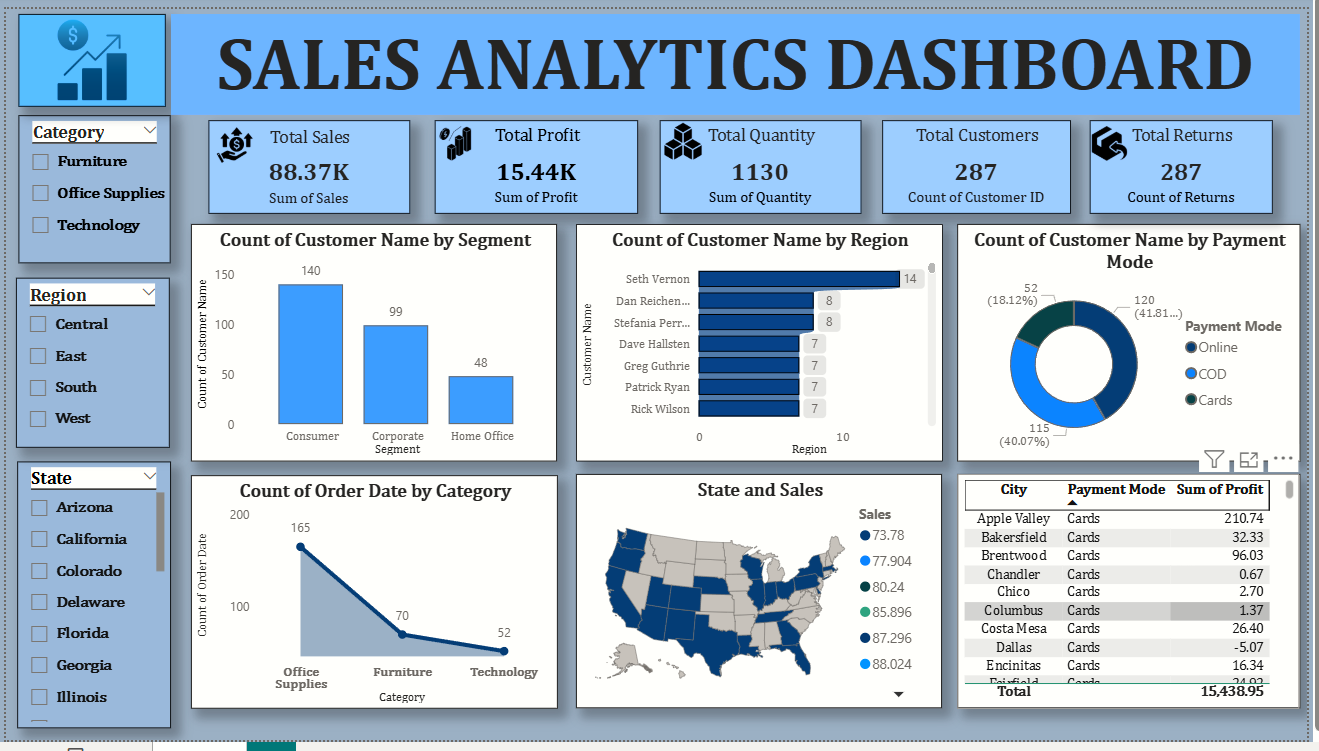

What the dashboard file says about the page in this screenshot:
{"tool":"powerbi","page":{"name":"Page 1","canvas":[1280,720],"ordinal":0},"visuals":[{"type":"card","title":"Total Profit","fields":{"Values":["SuperStore_Sales_Dataset.Profit"]},"box":[422.2,110,200.1,92.2],"z":0},{"type":"card","title":"Total Sales","fields":{"Values":["SuperStore_Sales_Dataset.Sales"]},"box":[199.1,110,198,92.2],"z":1000},{"type":"card","title":"Total Quantity","fields":{"Values":["SuperStore_Sales_Dataset.Quantity"]},"box":[643.2,110,198,92.2],"z":2000},{"type":"card","title":"Total Customers","fields":{"Values":["SuperStore_Sales_Dataset.Customer ID"]},"box":[862.2,110,185.4,92.2],"z":3000},{"type":"barChart","title":"Count of Customer Name by Region","fields":{"Category":["SuperStore_Sales_Dataset.Customer Name"],"Y":["SuperStore_Sales_Dataset.Region"]},"box":[560.3,211.7,360.5,233.6],"z":4000},{"type":"donutChart","fields":{"Y":["SuperStore_Sales_Dataset.Customer Name"],"Category":["SuperStore_Sales_Dataset.Payment Mode"]},"box":[935.5,211.6,337.3,233.6],"z":5000},{"type":"clusteredColumnChart","fields":{"Y":["SuperStore_Sales_Dataset.Customer Name"],"Category":["SuperStore_Sales_Dataset.Segment"]},"box":[182.3,211.6,360.4,233.6],"z":6000},{"type":"areaChart","fields":{"Category":["SuperStore_Sales_Dataset.Category"],"Y":["SuperStore_Sales_Dataset.Order Date"]},"box":[182.5,458.1,360.5,230],"z":7000},{"type":"shapeMap","fields":{"Category":["SuperStore_Sales_Dataset.State"],"Series":["SuperStore_Sales_Dataset.Sales"]},"box":[560.5,457.8,360.4,230.5],"z":8000},{"type":"tableEx","fields":{"Values":["SuperStore_Sales_Dataset.City","SuperStore_Sales_Dataset.Payment Mode","SuperStore_Sales_Dataset.Profit"]},"box":[935.5,457.8,337.3,230.5],"z":9000},{"type":"slicer","fields":{"Values":["SuperStore_Sales_Dataset.Category"]},"box":[12.6,104.8,149.8,145.6],"z":10000},{"type":"slicer","fields":{"Values":["SuperStore_Sales_Dataset.State"]},"box":[11.1,445.4,150.9,262],"z":11000},{"type":"slicer","fields":{"Values":["SuperStore_Sales_Dataset.Region"]},"box":[10.2,263.9,150.9,167.6],"z":12000},{"type":"image","box":[12.8,5.5,145.1,91.3],"z":13000},{"type":"image","box":[174.3,110.4,100.4,46.5],"z":14000},{"type":"image","box":[414.9,110,55.5,46.1],"z":15000},{"type":"textbox","box":[162.4,5.2,1110.5,99.5],"z":16000},{"type":"card","title":"Total Returns","fields":{"Values":["SuperStore_Sales_Dataset.Returns"]},"box":[1065.4,110,180.2,92.2],"z":17000},{"type":"image","box":[630.7,104.8,70.2,51.3],"z":18000},{"type":"image","box":[1056,110,57.6,46.1],"z":19000}]}

Visuals, with their boxes in screenshot pixels (x1, y1, x2, y2), scaled from the page's 1280x720 canvas onto the 1319x751 screenshot:
"Total Profit" card: pyautogui.locateOnScreen(435, 115, 641, 211)
"Total Sales" card: pyautogui.locateOnScreen(205, 115, 409, 211)
"Total Quantity" card: pyautogui.locateOnScreen(663, 115, 867, 211)
"Total Customers" card: pyautogui.locateOnScreen(888, 115, 1080, 211)
"Count of Customer Name by Region" barChart: pyautogui.locateOnScreen(577, 221, 949, 464)
donutChart - SuperStore_Sales_Dataset.Customer Name x SuperStore_Sales_Dataset.Payment Mode: pyautogui.locateOnScreen(964, 221, 1312, 464)
clusteredColumnChart - SuperStore_Sales_Dataset.Customer Name x SuperStore_Sales_Dataset.Segment: pyautogui.locateOnScreen(188, 221, 559, 464)
areaChart - SuperStore_Sales_Dataset.Category x SuperStore_Sales_Dataset.Order Date: pyautogui.locateOnScreen(188, 478, 560, 718)
shapeMap - SuperStore_Sales_Dataset.State x SuperStore_Sales_Dataset.Sales: pyautogui.locateOnScreen(578, 478, 949, 718)
tableEx - SuperStore_Sales_Dataset.City x SuperStore_Sales_Dataset.Payment Mode: pyautogui.locateOnScreen(964, 478, 1312, 718)
slicer - SuperStore_Sales_Dataset.Category: pyautogui.locateOnScreen(13, 109, 167, 261)
slicer - SuperStore_Sales_Dataset.State: pyautogui.locateOnScreen(11, 465, 167, 738)
slicer - SuperStore_Sales_Dataset.Region: pyautogui.locateOnScreen(11, 275, 166, 450)
image: pyautogui.locateOnScreen(13, 6, 163, 101)
image: pyautogui.locateOnScreen(180, 115, 283, 164)
image: pyautogui.locateOnScreen(428, 115, 485, 163)
textbox: pyautogui.locateOnScreen(167, 5, 1312, 109)
"Total Returns" card: pyautogui.locateOnScreen(1098, 115, 1284, 211)
image: pyautogui.locateOnScreen(650, 109, 722, 163)
image: pyautogui.locateOnScreen(1088, 115, 1148, 163)
